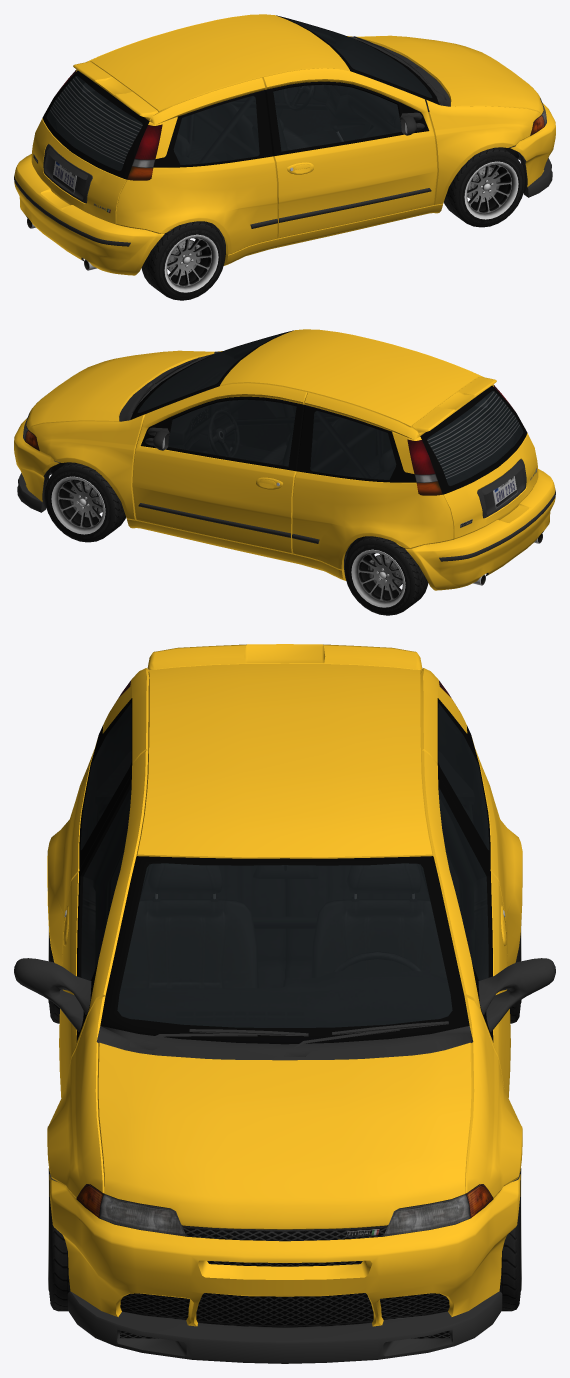
Rendered from Milano95_Labeled.glb.
3 renders of one model, top to bottom at view 1: azimuth 30°, elevation 25°; view 2: azimuth 150°, elevation 25°; view 3: azimuth 270°, elevation 25°, orthographic. The views are drawn at different scales.
Visible parts, largest first — view 1: Milano95_Body_Milano95_Bodymat_0, MILANO95RM_Kit_Milano95_Bodymat_0, Milano95_interior_UCB_Interiors_2_0, Milano95_Bottom_UCB_BOTTOM_0, Milano95_Glass_Passanger_UCB_Lights_and_Glass_Transperent_0, MILANO95RM_Bumper_rear_Milano95_Bodymat_0, Milano95_Hood_Milano95_Bodymat_0, Milano95_Glass_Rear_UCB_Lights_and_Glass_Transperent_0, Milano95_WheelSport_RL_RB1c_Tire_1k_0, Milano95_WheelSport_FR_RB1c_Tire_1k_0, Milano95_Glass_UCB_Lights_and_Glass_Transperent_0, Milano95_Windshield_UCB_Lights_and_Glass_Transperent_0 (+8 smaller); view 2: Milano95_Body_Milano95_Bodymat_0, MILANO95RM_Kit_Milano95_Bodymat_0, Milano95_interior_UCB_Interiors_2_0, Milano95_Bottom_UCB_BOTTOM_0, Milano95_Glass_Driver_UCB_Lights_and_Glass_Transperent_0, MILANO95RM_Bumper_rear_Milano95_Bodymat_0, Milano95_Hood_Milano95_Bodymat_0, Milano95_Glass_Rear_UCB_Lights_and_Glass_Transperent_0, Milano95_WheelSport_RR_RB1c_Tire_1k_0, Milano95_WheelSport_FL_RB1c_Tire_1k_0, Milano95_Glass_UCB_Lights_and_Glass_Transperent_0, Milano95_Windshield_UCB_Lights_and_Glass_Transperent_0 (+9 smaller); view 3: Milano95_Body_Milano95_Bodymat_0, Milano95_Hood_Milano95_Bodymat_0, Milano95_interior_UCB_Interiors_2_0, Milano95_Windshield_UCB_Lights_and_Glass_Transperent_0, Milano95_Bottom_UCB_BOTTOM_0, MILANO95RM_Bumper_Front_Milano95_Bodymat_0, MILANO95RM_Kit_Milano95_Bodymat_0, MILANO95RM_Bumper_Front_inner_UCB_BOTTOM_0, Milano95_Glass_UCB_Lights_and_Glass_Transperent_0, MILANO95RM_Trim_UCB_BOTTOM_0, Milano95_Headlights_Glass_UCB_Lights_and_Glass_Transperent_0, Milano95_Glass_Driver_UCB_Lights_and_Glass_Transperent_0 (+5 smaller).
Part boxes in pixels (<box>): Milano95_Body_Milano95_Bodymat_0: <box>31,14,437,238</box>; MILANO95RM_Kit_Milano95_Bodymat_0: <box>31,35,540,265</box>; Milano95_interior_UCB_Interiors_2_0: <box>47,20,431,170</box>; Milano95_Bottom_UCB_BOTTOM_0: <box>42,15,519,259</box>; Milano95_Glass_Passanger_UCB_Lights_and_Glass_Transperent_0: <box>273,84,401,151</box>; MILANO95RM_Bumper_rear_Milano95_Bodymat_0: <box>14,154,164,275</box>; Milano95_Hood_Milano95_Bodymat_0: <box>356,35,543,114</box>; Milano95_Glass_Rear_UCB_Lights_and_Glass_Transperent_0: <box>46,76,142,170</box>; Milano95_WheelSport_RL_RB1c_Tire_1k_0: <box>141,221,225,300</box>; Milano95_WheelSport_FR_RB1c_Tire_1k_0: <box>444,147,525,227</box>; Milano95_Glass_UCB_Lights_and_Glass_Transperent_0: <box>83,83,259,164</box>; Milano95_Windshield_UCB_Lights_and_Glass_Transperent_0: <box>284,18,432,97</box>; Milano95_Body_Milano95_Bodymat_0: <box>132,329,538,553</box>; MILANO95RM_Kit_Milano95_Bodymat_0: <box>29,350,538,580</box>; Milano95_interior_UCB_Interiors_2_0: <box>138,335,522,485</box>; Milano95_Bottom_UCB_BOTTOM_0: <box>50,330,527,574</box>; Milano95_Glass_Driver_UCB_Lights_and_Glass_Transperent_0: <box>168,399,296,466</box>; MILANO95RM_Bumper_rear_Milano95_Bodymat_0: <box>405,469,555,590</box>; Milano95_Hood_Milano95_Bodymat_0: <box>26,350,214,429</box>; Milano95_Glass_Rear_UCB_Lights_and_Glass_Transperent_0: <box>427,391,523,485</box>; Milano95_WheelSport_RR_RB1c_Tire_1k_0: <box>344,536,428,615</box>; Milano95_WheelSport_FL_RB1c_Tire_1k_0: <box>44,462,125,542</box>; Milano95_Glass_UCB_Lights_and_Glass_Transperent_0: <box>310,398,486,479</box>; Milano95_Windshield_UCB_Lights_and_Glass_Transperent_0: <box>137,333,285,412</box>; Milano95_Body_Milano95_Bodymat_0: <box>59,663,510,1097</box>; Milano95_Hood_Milano95_Bodymat_0: <box>97,1042,472,1229</box>; Milano95_interior_UCB_Interiors_2_0: <box>81,704,488,1027</box>; Milano95_Windshield_UCB_Lights_and_Glass_Transperent_0: <box>117,863,452,1027</box>; Milano95_Bottom_UCB_BOTTOM_0: <box>14,698,555,1240</box>; MILANO95RM_Bumper_Front_Milano95_Bodymat_0: <box>49,1174,520,1326</box>; MILANO95RM_Kit_Milano95_Bodymat_0: <box>47,644,522,1198</box>; MILANO95RM_Bumper_Front_inner_UCB_BOTTOM_0: <box>49,1174,520,1363</box>; Milano95_Glass_UCB_Lights_and_Glass_Transperent_0: <box>80,703,489,849</box>; MILANO95RM_Trim_UCB_BOTTOM_0: <box>93,797,476,968</box>; Milano95_Headlights_Glass_UCB_Lights_and_Glass_Transperent_0: <box>99,1193,470,1236</box>; Milano95_Glass_Driver_UCB_Lights_and_Glass_Transperent_0: <box>438,787,488,980</box>.
Bounding box in the file's own units: 3.91 × 1.43 × 1.93.
Materials: 8 (7 with a texture image).
